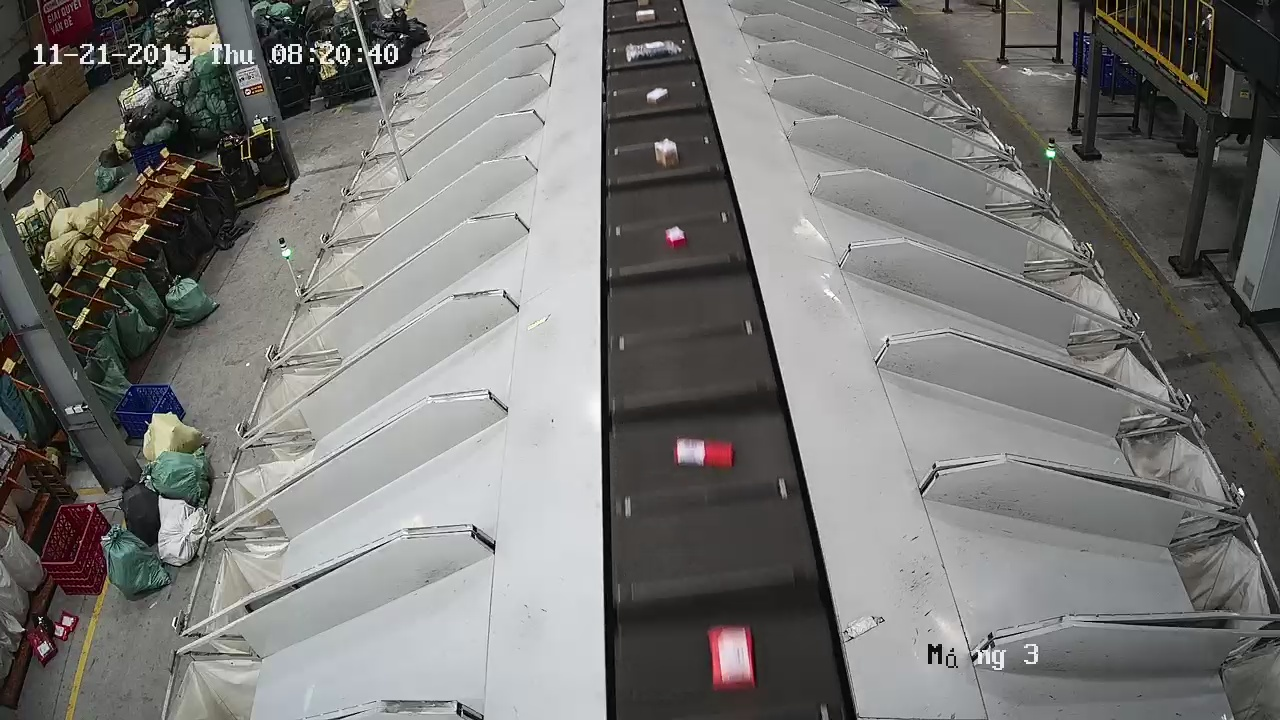parcel: (670, 434, 738, 472)
